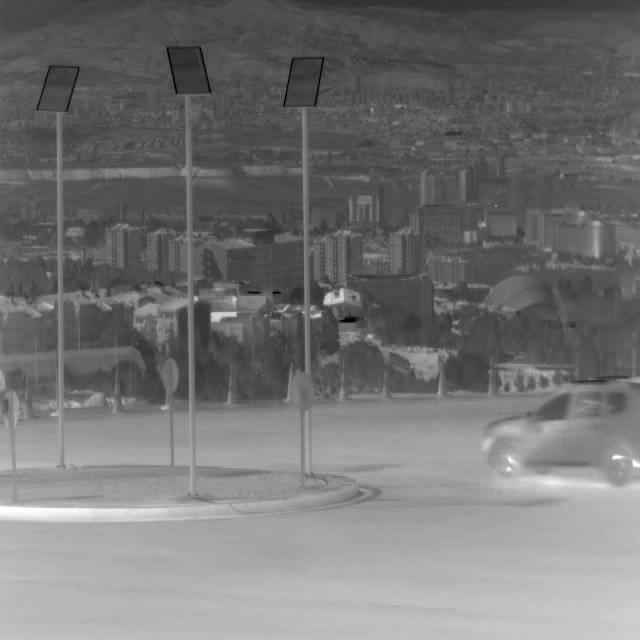Car: (481, 380, 640, 480)
